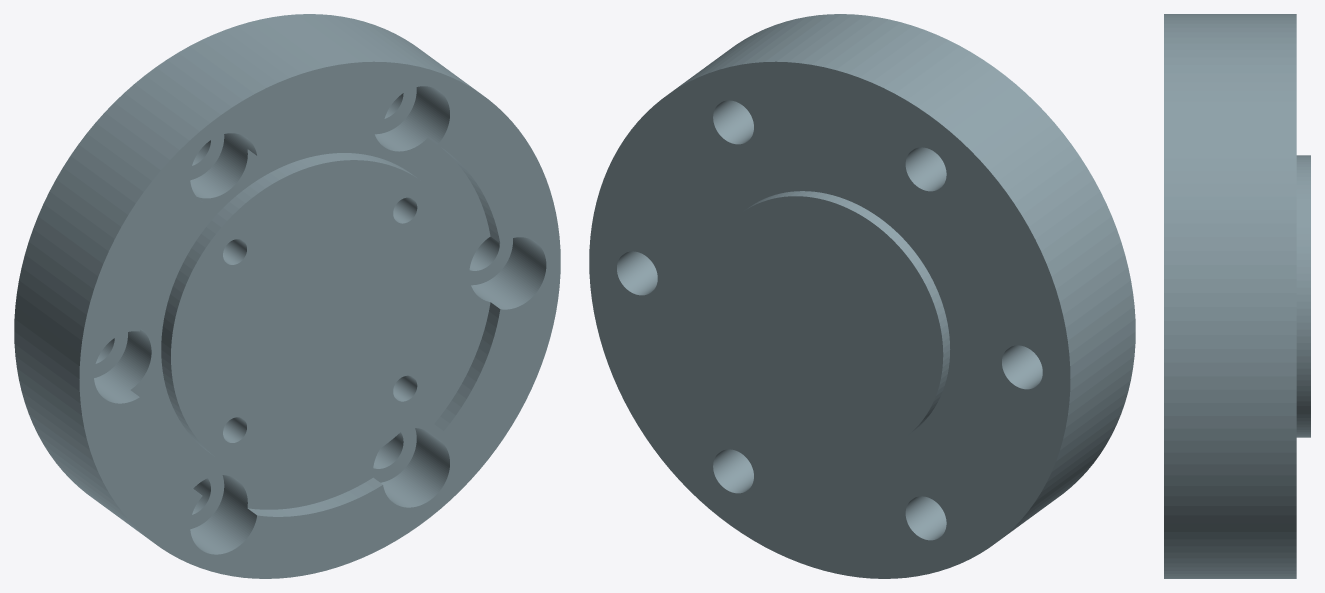
File: adapter_R03.glb
3 renders of one model, left to right at view 1: azimuth 30°, elevation 25°; view 2: azimuth 150°, elevation 25°; view 3: azimuth 270°, elevation 25°, orthographic.
Visible parts, largest first — view 1: original_adapter_nominal_R03; view 2: original_adapter_nominal_R03; view 3: original_adapter_nominal_R03.
Boxes of the visible parts, x1=… form: original_adapter_nominal_R03: x1=14, y1=14, x2=560, y2=578; original_adapter_nominal_R03: x1=589, y1=14, x2=1135, y2=578; original_adapter_nominal_R03: x1=1164, y1=14, x2=1310, y2=578.
Bounding box in the file's own units: 0.1 × 0.1 × 0.026.
